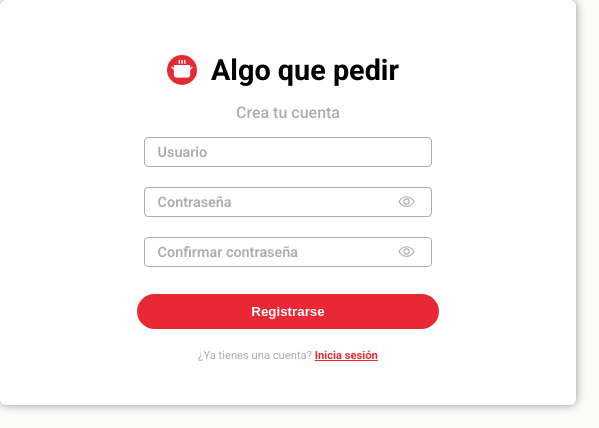
Test: auth tests › muestra error si el nombre de usuario es invalido
Type "_" into the field with test id "input-usuario".
click(288, 152); type("_")  # box [144,137,432,167]
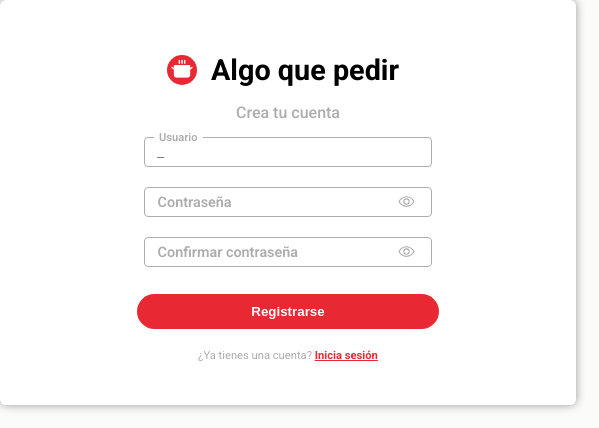
Type "12345" into the password field with test id "input-password".
click(288, 202); type("12345")  # box [144,187,432,217]
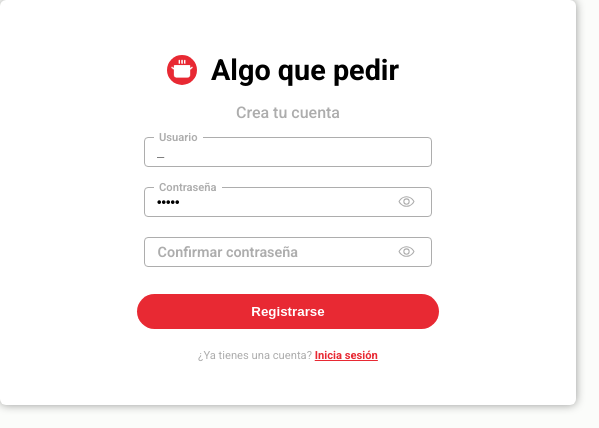
Type "12345" into the password field with test id "input-confirm-password".
click(288, 252); type("12345")  # box [144,237,432,267]
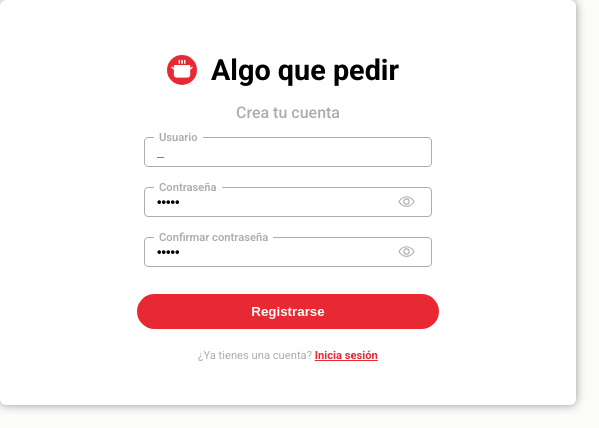
Click the button with test id "btn-submit".
click(288, 312)  # box [137,294,439,329]
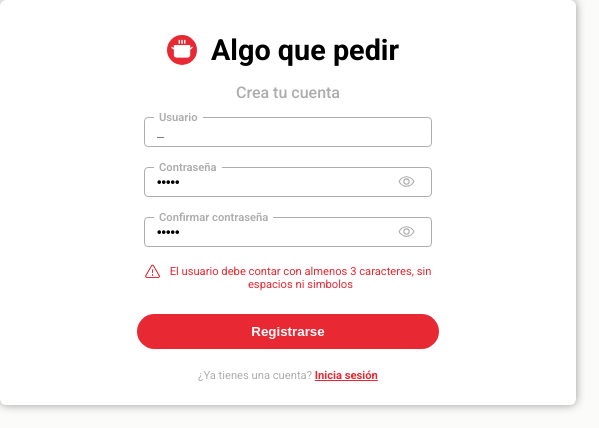
Expected: the element with test id "error-msg" reads "El usuario debe contar con almenos 3 caracteres, sin espacios ni simbolos", [170,265,431,291]
